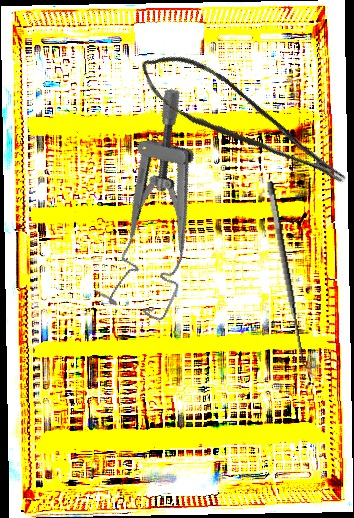Hook Surgical: (264, 178, 322, 374)
Micro Scissor: (127, 29, 353, 221)
Speculum: (74, 84, 252, 329)
